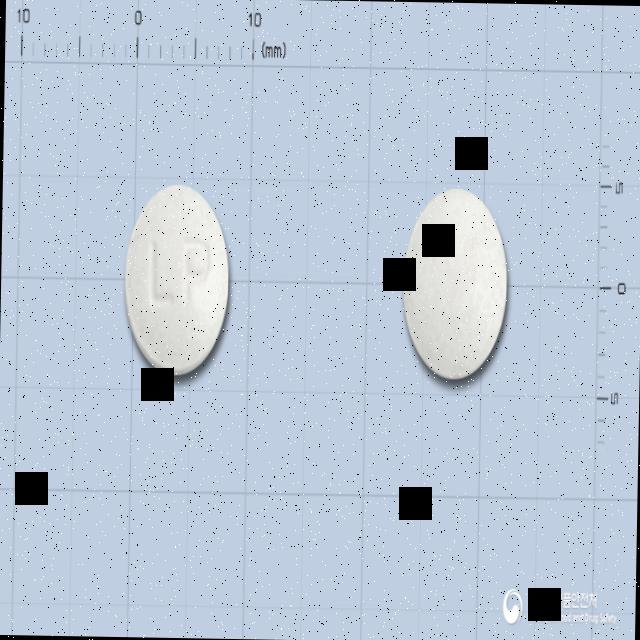Nofaxin Tab: (124, 182, 230, 377)
